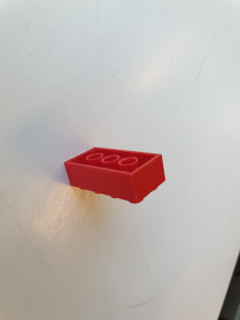2x4 red: (62, 146, 170, 209)
